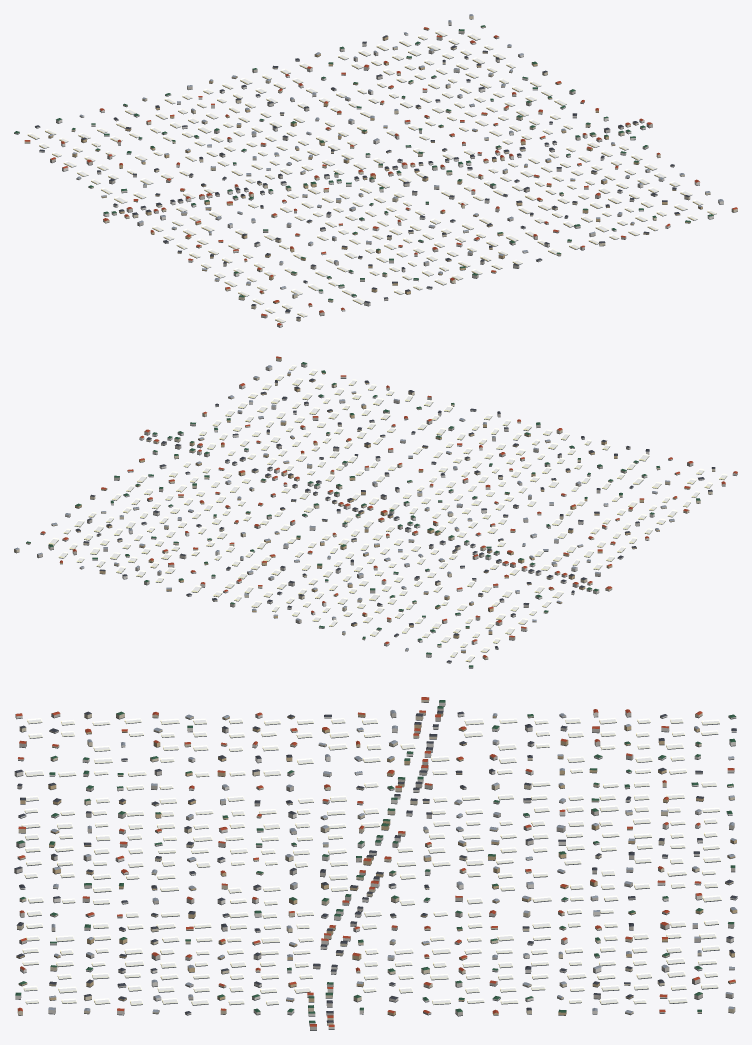
Rendered from buildings_T_E09_S03.glb.
3 renders of one model, top to bottom at view 1: azimuth 30°, elevation 25°; view 2: azimuth 150°, elevation 25°; view 3: azimuth 270°, elevation 25°, orthographic. The views are drawn at different scales.
Visible parts, largest first — view 1: T_E09_S03_roofs_agri_greenhouse_arch, T_E09_S03_slope_seating_foundations, T_E09_S03_walls_wall_pastel_sand_gray, T_E09_S03_walls_wall_modern_warm_white, T_E09_S03_walls_wall_dalat_cream_stucco, T_E09_S03_roofs_roof_slate_French_villa_hip, T_E09_S03_walls_wall_french_ochre_villa, T_E09_S03_roofs_roof_terracotta_gable, T_E09_S03_roofs_roof_pine_green_hip, T_E09_S03_roofs_roof_zinc_silver_gable; view 2: T_E09_S03_roofs_agri_greenhouse_arch, T_E09_S03_slope_seating_foundations, T_E09_S03_walls_wall_pastel_sand_gray, T_E09_S03_walls_wall_modern_warm_white, T_E09_S03_walls_wall_dalat_cream_stucco, T_E09_S03_roofs_roof_slate_French_villa_hip, T_E09_S03_walls_wall_french_ochre_villa, T_E09_S03_roofs_roof_terracotta_gable, T_E09_S03_roofs_roof_pine_green_hip, T_E09_S03_roofs_roof_zinc_silver_gable; view 3: T_E09_S03_roofs_agri_greenhouse_arch, T_E09_S03_slope_seating_foundations, T_E09_S03_walls_wall_pastel_sand_gray, T_E09_S03_walls_wall_dalat_cream_stucco, T_E09_S03_walls_wall_modern_warm_white, T_E09_S03_roofs_roof_slate_French_villa_hip, T_E09_S03_walls_wall_french_ochre_villa, T_E09_S03_roofs_roof_terracotta_gable, T_E09_S03_roofs_roof_pine_green_hip, T_E09_S03_roofs_roof_zinc_silver_gable.
Part boxes in pixels (x1,y1,x2,y2): T_E09_S03_roofs_agri_greenhouse_arch: [27, 30, 716, 322]; T_E09_S03_slope_seating_foundations: [14, 19, 737, 327]; T_E09_S03_walls_wall_pastel_sand_gray: [14, 22, 674, 317]; T_E09_S03_walls_wall_modern_warm_white: [35, 33, 723, 327]; T_E09_S03_walls_wall_dalat_cream_stucco: [24, 16, 737, 321]; T_E09_S03_roofs_roof_slate_French_villa_hip: [35, 35, 689, 318]; T_E09_S03_walls_wall_french_ochre_villa: [48, 28, 702, 303]; T_E09_S03_roofs_roof_terracotta_gable: [24, 27, 737, 325]; T_E09_S03_roofs_roof_pine_green_hip: [14, 25, 713, 300]; T_E09_S03_roofs_roof_zinc_silver_gable: [49, 14, 723, 295]; T_E09_S03_roofs_agri_greenhouse_arch: [48, 365, 727, 661]; T_E09_S03_slope_seating_foundations: [14, 360, 737, 668]; T_E09_S03_walls_wall_pastel_sand_gray: [37, 387, 725, 667]; T_E09_S03_walls_wall_modern_warm_white: [62, 363, 737, 662]; T_E09_S03_walls_wall_dalat_cream_stucco: [14, 357, 715, 659]; T_E09_S03_roofs_roof_slate_French_villa_hip: [76, 378, 715, 662]; T_E09_S03_walls_wall_french_ochre_villa: [60, 371, 690, 652]; T_E09_S03_roofs_roof_terracotta_gable: [41, 356, 737, 657]; T_E09_S03_roofs_roof_pine_green_hip: [26, 362, 700, 667]; T_E09_S03_roofs_roof_zinc_silver_gable: [14, 365, 674, 650]; T_E09_S03_roofs_agri_greenhouse_arch: [21, 717, 721, 1005]; T_E09_S03_slope_seating_foundations: [14, 702, 737, 1030]; T_E09_S03_walls_wall_pastel_sand_gray: [14, 708, 736, 1030]; T_E09_S03_walls_wall_dalat_cream_stucco: [17, 698, 735, 1025]; T_E09_S03_walls_wall_modern_warm_white: [14, 701, 737, 1029]; T_E09_S03_roofs_roof_slate_French_villa_hip: [14, 710, 737, 1022]; T_E09_S03_walls_wall_french_ochre_villa: [16, 713, 737, 1015]; T_E09_S03_roofs_roof_terracotta_gable: [16, 697, 735, 1026]; T_E09_S03_roofs_roof_pine_green_hip: [15, 700, 735, 1023]; T_E09_S03_roofs_roof_zinc_silver_gable: [48, 710, 736, 1013].
Bounding box in the file's own units: 1920 × 31.53 × 1755.
